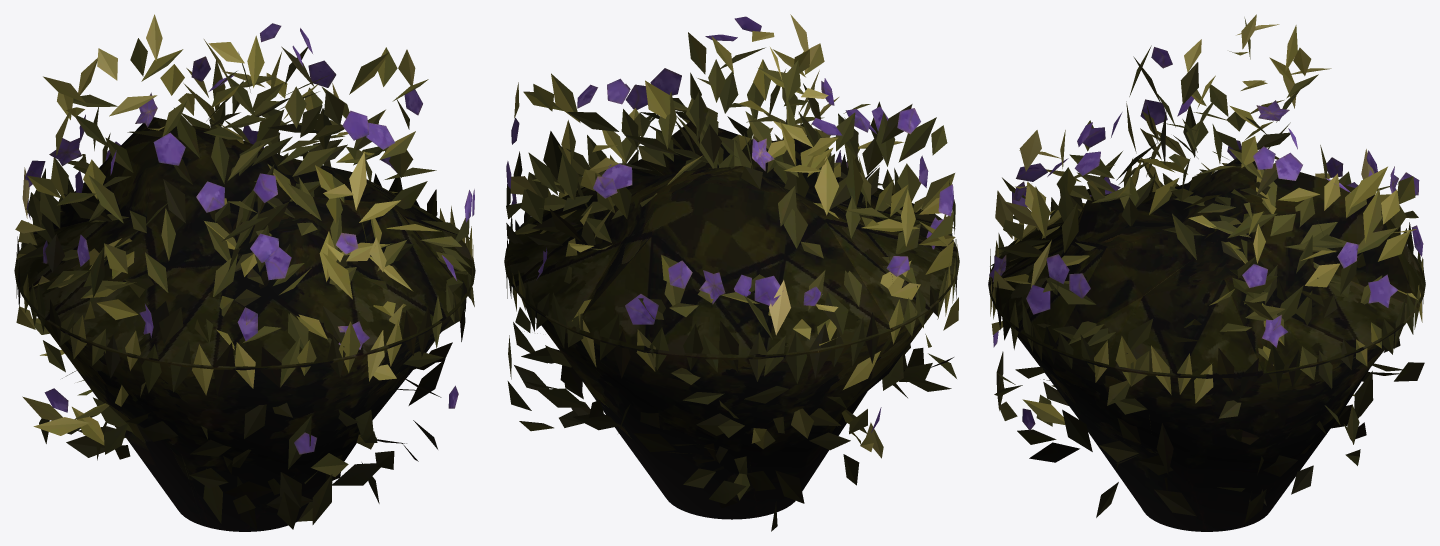
The model's file is shrub_leafy.glb.
3 renders of one model, left to right at view 1: azimuth 30°, elevation 25°; view 2: azimuth 150°, elevation 25°; view 3: azimuth 270°, elevation 25°, orthographic. The views are drawn at different scales.
Visible parts, largest first — view 1: body; view 2: body; view 3: body.
Part boxes in pixels (x1,y1,x2,y2): body: (14,14,475,531); body: (504,14,959,531); body: (988,14,1425,531).
Bounding box in the file's own units: 1.1 × 1.28 × 1.1.
1 material, 1 textured.
